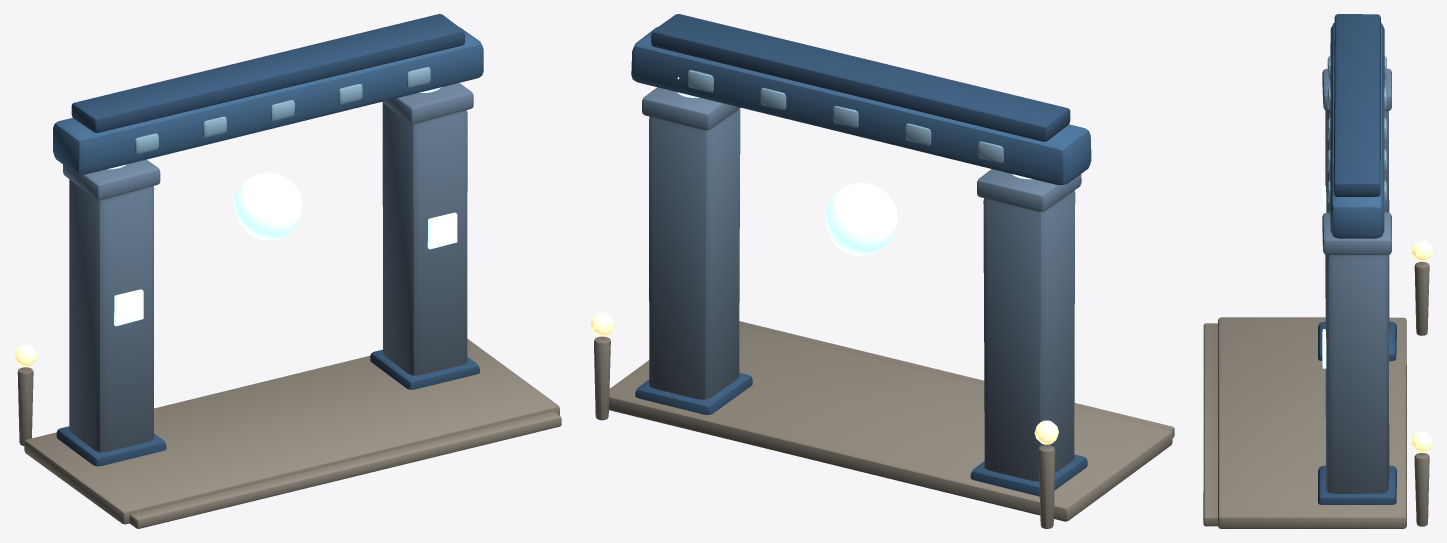
3 renders of one model, left to right at view 1: azimuth 30°, elevation 25°; view 2: azimuth 150°, elevation 25°; view 3: azimuth 270°, elevation 25°, orthographic. The views are drawn at different scales.
Parts seen in each view (by area): view 1: gate_6683e8fc; view 2: gate_6683e8fc; view 3: gate_6683e8fc.
Boxes of the visible parts, x1,y1,x2,y2 form: gate_6683e8fc: (14, 14, 561, 528); gate_6683e8fc: (590, 14, 1174, 528); gate_6683e8fc: (1203, 14, 1432, 528).
Size of the model in its own units: 5.29 by 4.08 by 2.55.
